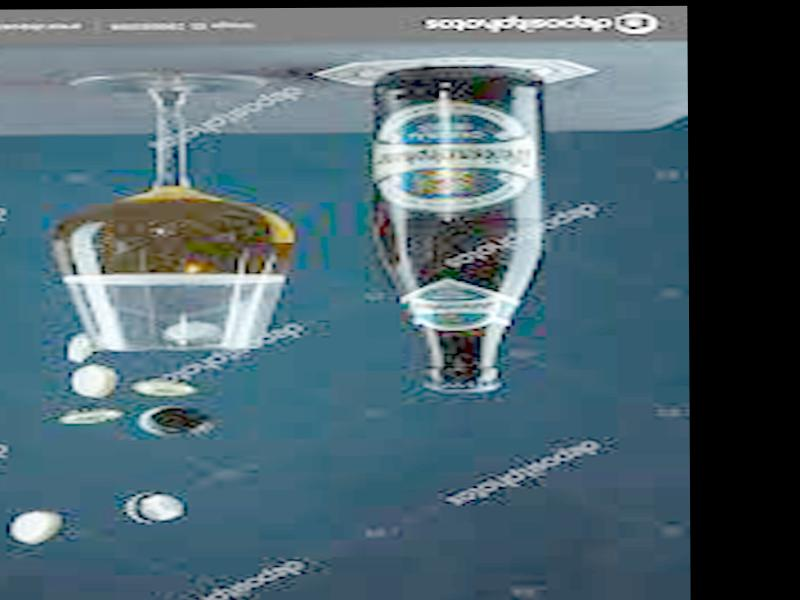Beer: (377, 69, 540, 389)
